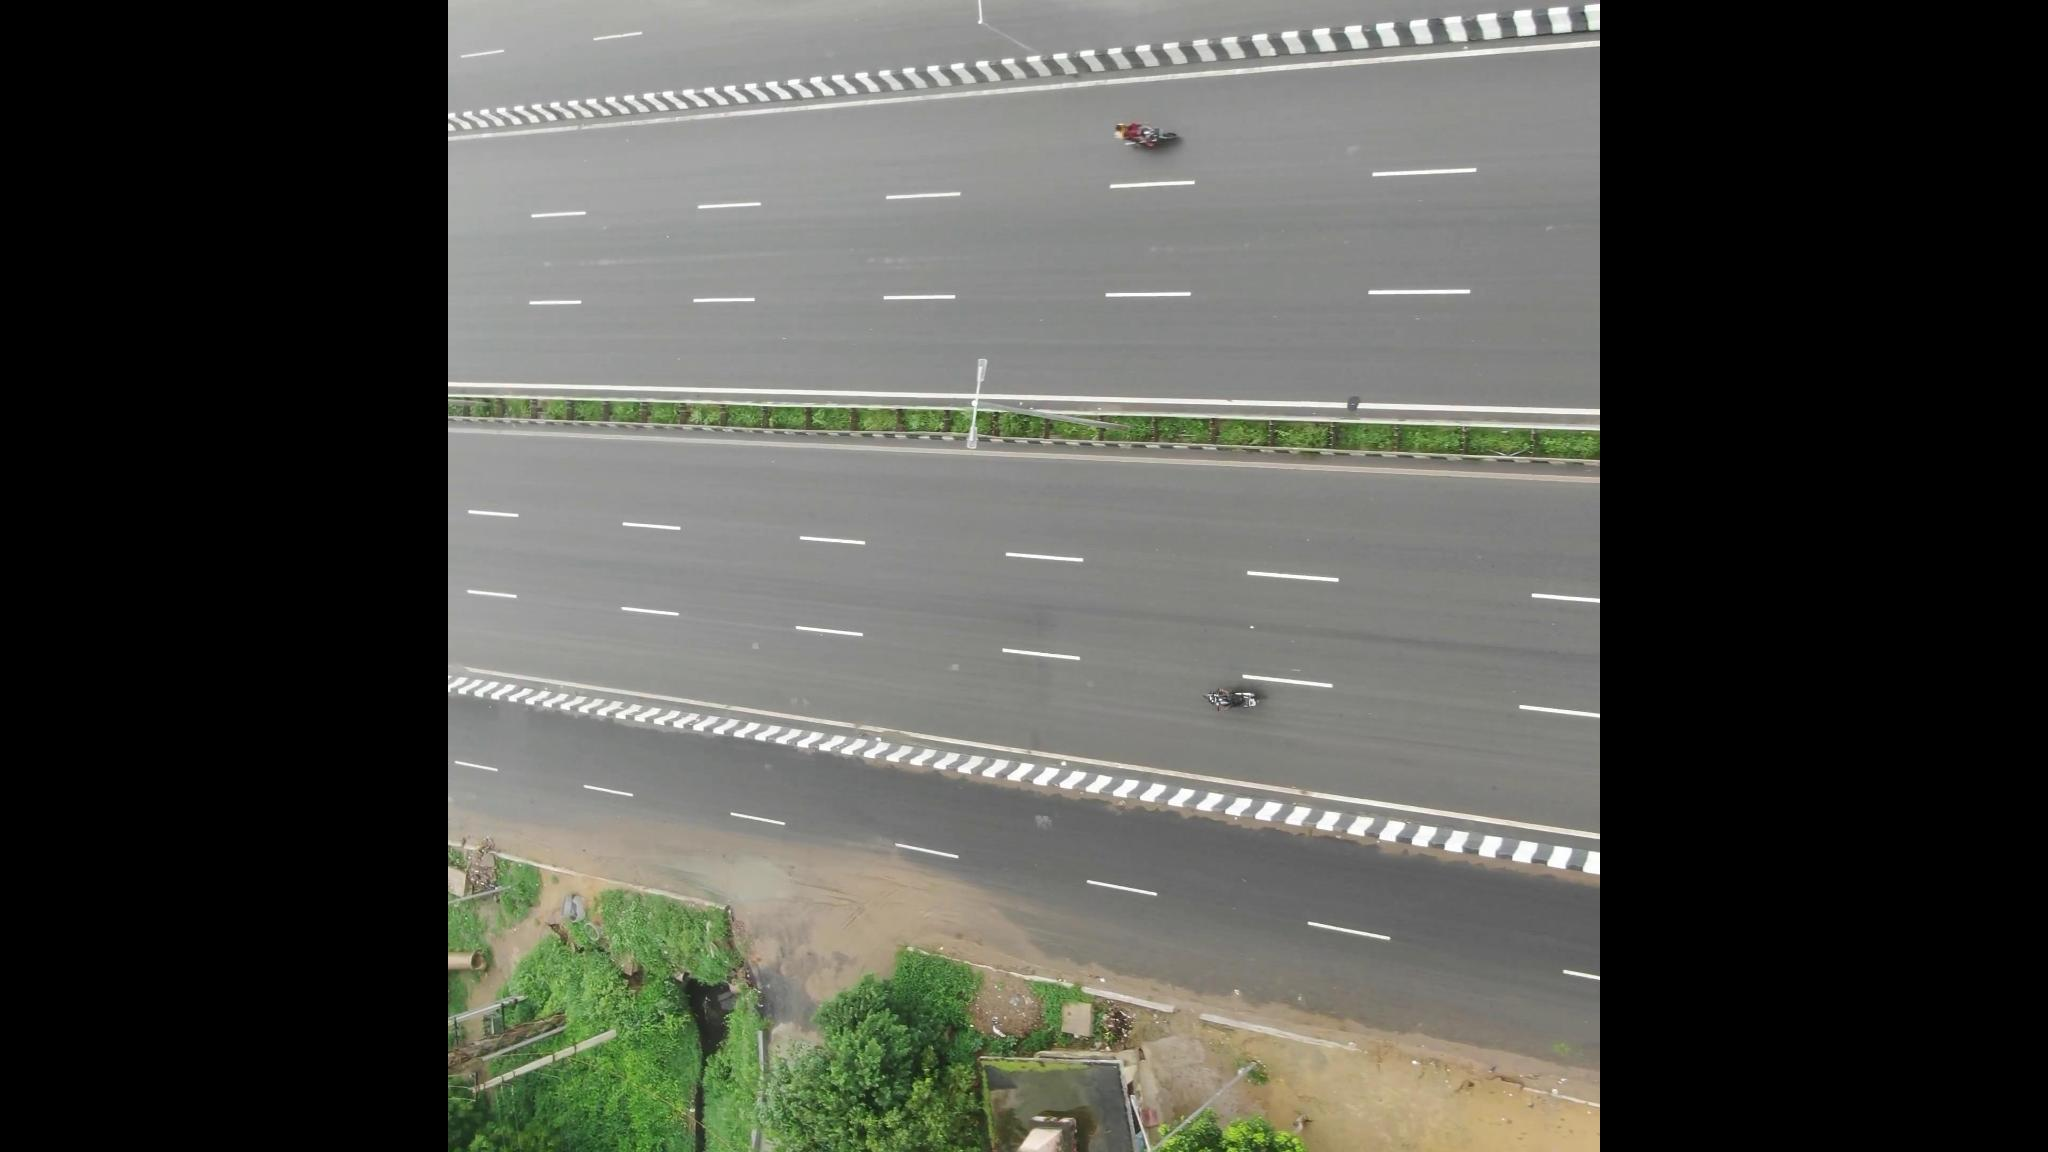Muddy_road: (731, 840, 949, 942)
